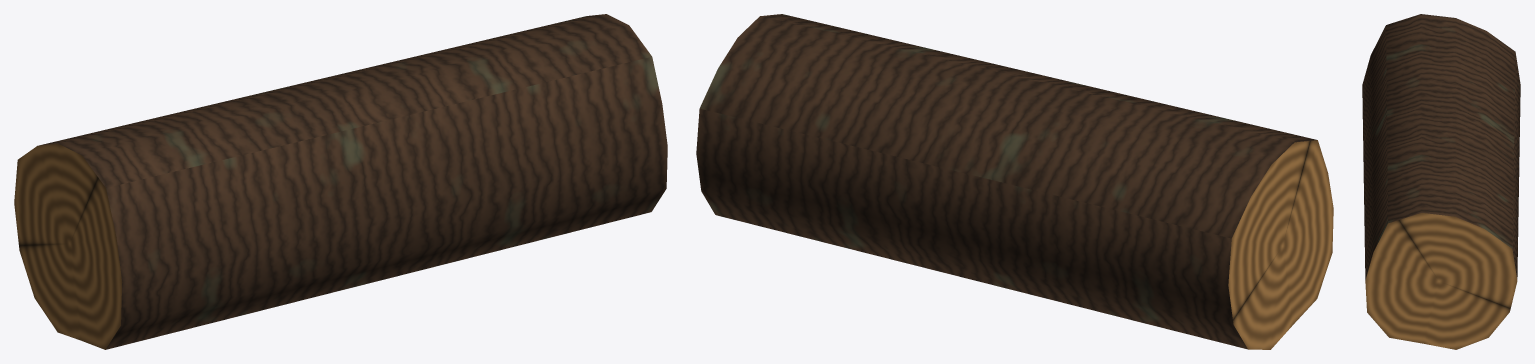
File: log_whole.glb
The picture shows the model from 3 angles, left to right: view 1: azimuth 30°, elevation 25°; view 2: azimuth 150°, elevation 25°; view 3: azimuth 270°, elevation 25°; orthographic projection. The views are drawn at different scales.
Visible parts, largest first — view 1: WholeLogBark, WholeLogEnds; view 2: WholeLogBark, WholeLogEnds; view 3: WholeLogBark, WholeLogEnds.
Boxes of the visible parts, x1,y1,x2,y2 form: WholeLogBark: [39, 14, 667, 349]; WholeLogEnds: [14, 143, 122, 349]; WholeLogBark: [696, 14, 1316, 349]; WholeLogEnds: [1228, 140, 1333, 349]; WholeLogBark: [1362, 14, 1520, 280]; WholeLogEnds: [1365, 213, 1517, 349].
Size of the model in its own units: 0.36 by 0.1224 by 0.123.
2 materials, 2 textured.
